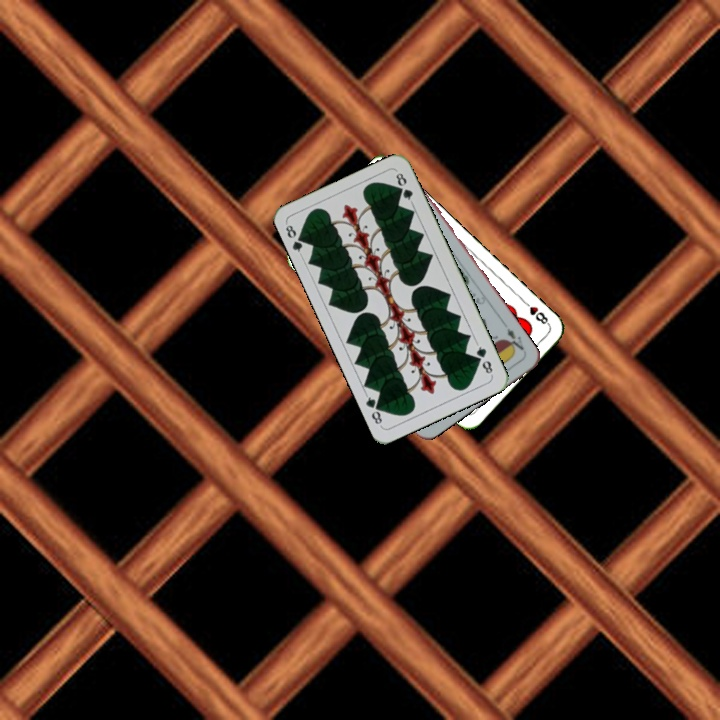EA: (502, 324, 528, 355)
G8: (281, 220, 309, 258), (472, 340, 495, 378)
H8: (519, 296, 552, 328)
